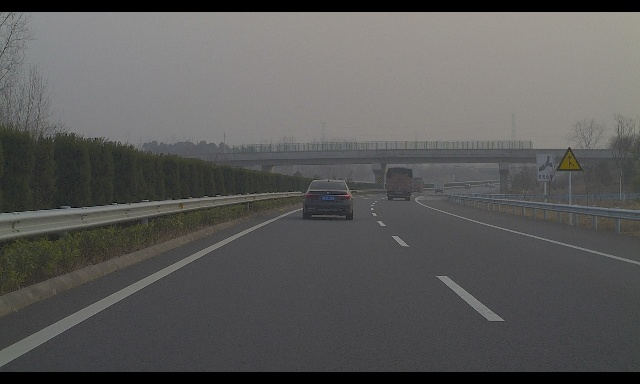car: (301, 179, 357, 221), (464, 184, 471, 189)
truck: (385, 167, 413, 201), (407, 177, 424, 193), (434, 180, 445, 193)
